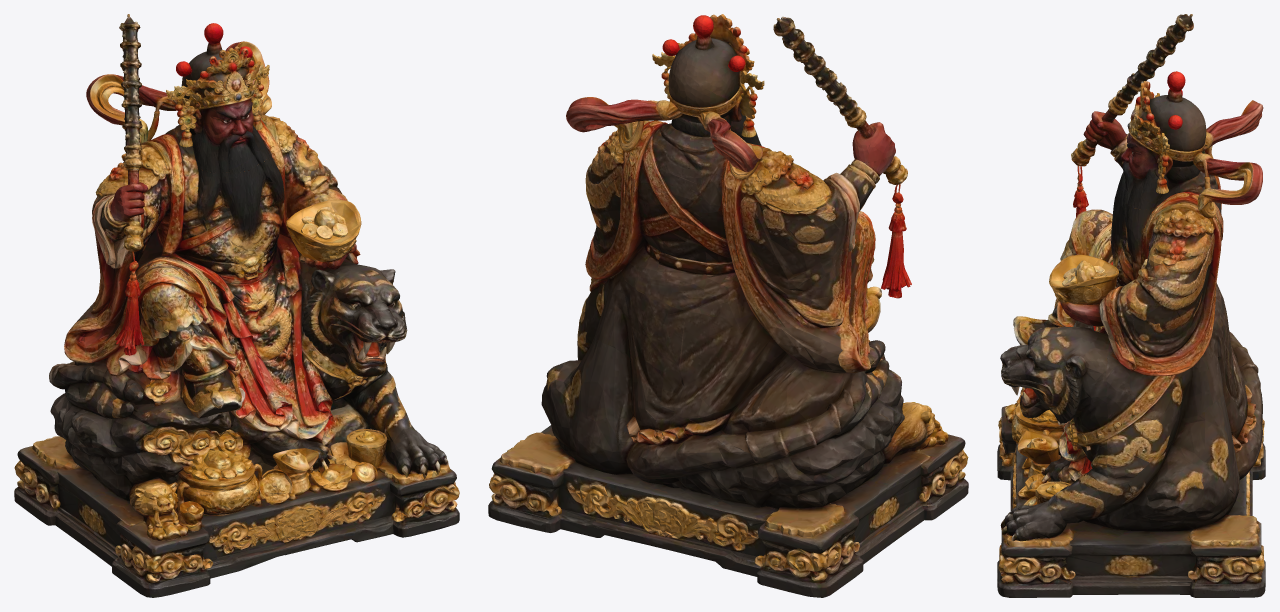
Rendered from caishen.glb.
3 renders of one model, left to right at view 1: azimuth 30°, elevation 25°; view 2: azimuth 150°, elevation 25°; view 3: azimuth 270°, elevation 25°, orthographic. The views are drawn at different scales.
Visible parts, largest first — view 1: tripo_node_126c607a-f01a-4b63-884e-dcb3da429b0d; view 2: tripo_node_126c607a-f01a-4b63-884e-dcb3da429b0d; view 3: tripo_node_126c607a-f01a-4b63-884e-dcb3da429b0d.
Boxes of the visible parts, x1=… form: tripo_node_126c607a-f01a-4b63-884e-dcb3da429b0d: x1=14, y1=14, x2=459, y2=597; tripo_node_126c607a-f01a-4b63-884e-dcb3da429b0d: x1=488, y1=14, x2=968, y2=597; tripo_node_126c607a-f01a-4b63-884e-dcb3da429b0d: x1=997, y1=14, x2=1265, y2=597.
Size of the model in its own units: 0.6586 by 0.9813 by 0.5036.
Materials: 1 (1 with a texture image).
